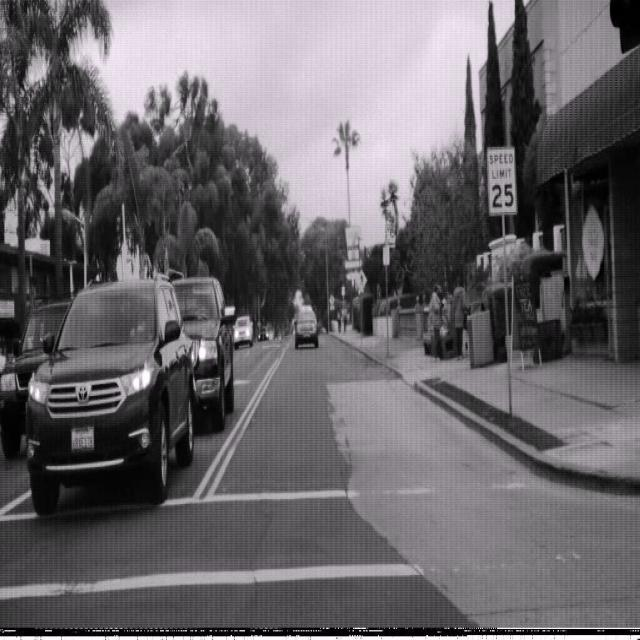speedLimit25: (486, 143, 518, 216)
